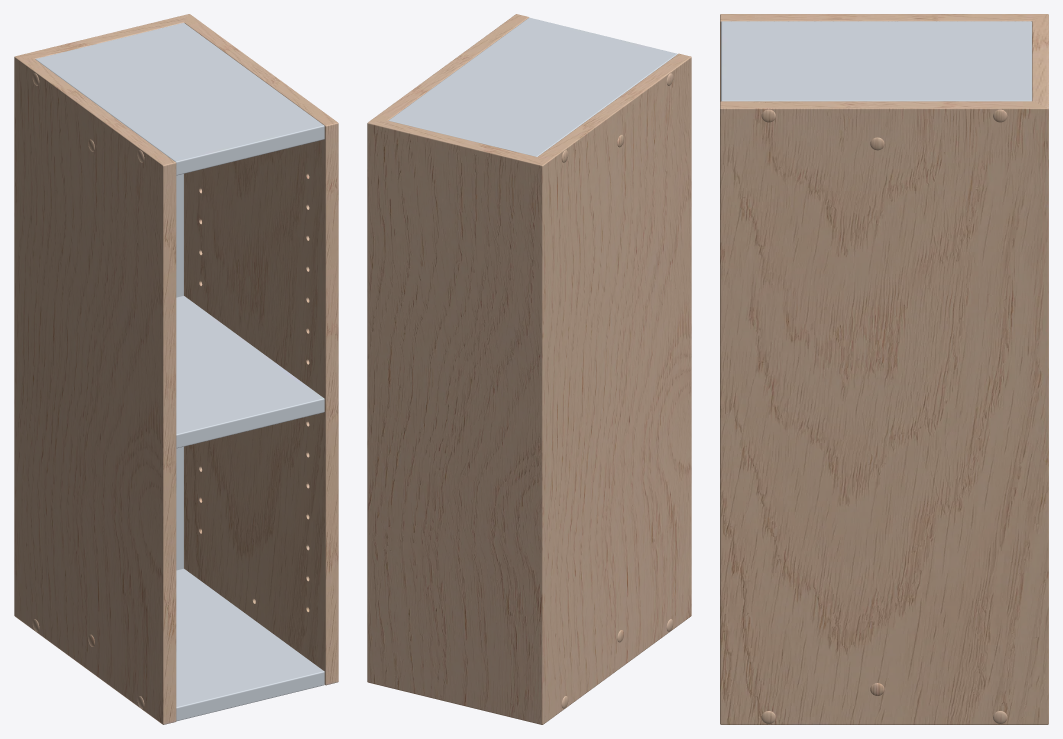
The model's file is abo-B07TY5GXBQ.glb.
The picture shows the model from 3 angles, left to right: view 1: azimuth 30°, elevation 25°; view 2: azimuth 150°, elevation 25°; view 3: azimuth 270°, elevation 25°; orthographic projection. The views are drawn at different scales.
Size of the model in its own units: 0.2 by 0.6 by 0.29.
1 material, 1 textured.
